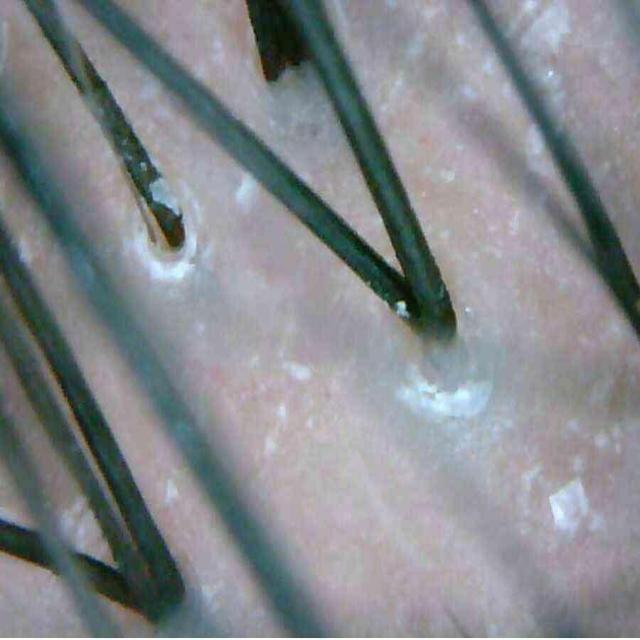d: (398, 376, 492, 419), (125, 228, 195, 283), (549, 479, 589, 532), (149, 177, 181, 215), (235, 173, 258, 214), (395, 301, 410, 318)
ds: (489, 0, 577, 156), (55, 481, 113, 568)
